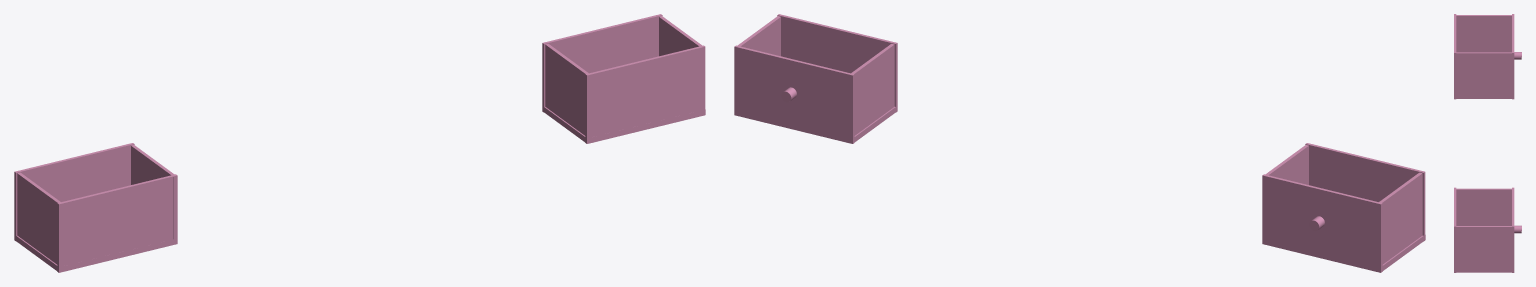
Rendered from Cajon_Arriba.obj.
The picture shows the model from 3 angles, left to right: view 1: azimuth 30°, elevation 25°; view 2: azimuth 150°, elevation 25°; view 3: azimuth 270°, elevation 25°; orthographic projection. The views are drawn at different scales.
Parts seen in each view (by area): view 1: Cajon_Abajo:group2_pasted__group_pasted__pasted__pCube1, Cajon_Abajo1:group2_pasted__group_pasted__pasted__pCube1 group81; view 2: Cajon_Abajo1:group2_pasted__group_pasted__pasted__pCube1 group81, Cajon_Abajo:group2_pasted__group_pasted__pasted__pCube1; view 3: Cajon_Abajo1:group2_pasted__group_pasted__pasted__pCube1 group81, Cajon_Abajo:group2_pasted__group_pasted__pasted__pCube1.
Part boxes in pixels (x1,y1,x2,y2): Cajon_Abajo:group2_pasted__group_pasted__pasted__pCube1: (14, 143, 177, 272); Cajon_Abajo1:group2_pasted__group_pasted__pasted__pCube1 group81: (542, 14, 705, 143); Cajon_Abajo1:group2_pasted__group_pasted__pasted__pCube1 group81: (734, 14, 897, 143); Cajon_Abajo:group2_pasted__group_pasted__pasted__pCube1: (1262, 143, 1425, 272); Cajon_Abajo1:group2_pasted__group_pasted__pasted__pCube1 group81: (1454, 187, 1521, 272); Cajon_Abajo:group2_pasted__group_pasted__pasted__pCube1: (1454, 14, 1521, 99).
Bounding box in the file's own units: 1.52 × 0.1538 × 0.204.
2 materials, 2 textured.
